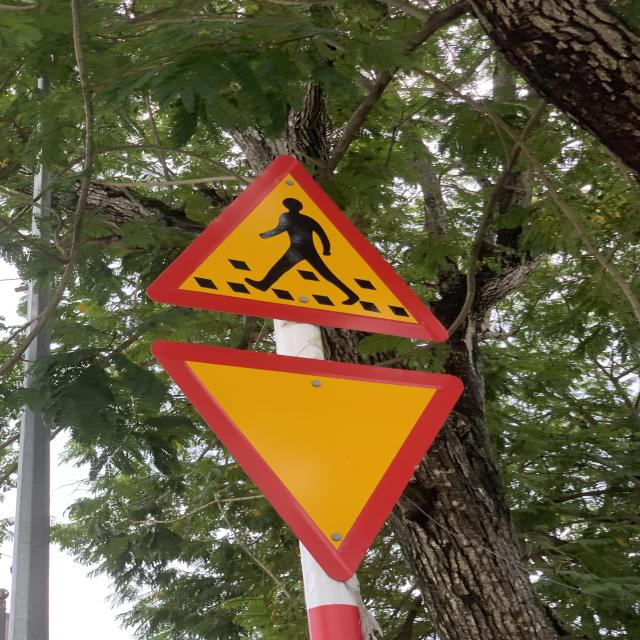Duong_Nguoi_Di_Bo_Sang_Ngang: (148, 156, 447, 345)
Gioi_Han_Toc_Do_25: (152, 340, 466, 580)
